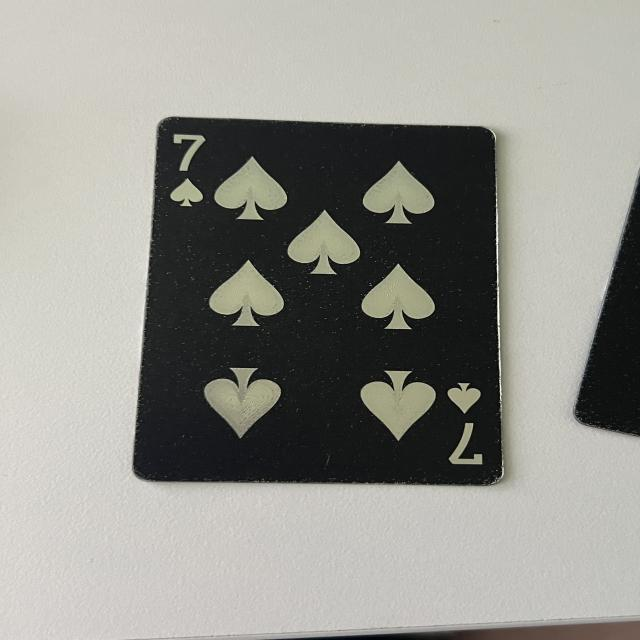6S: (161, 128, 216, 212), (443, 378, 492, 472)
